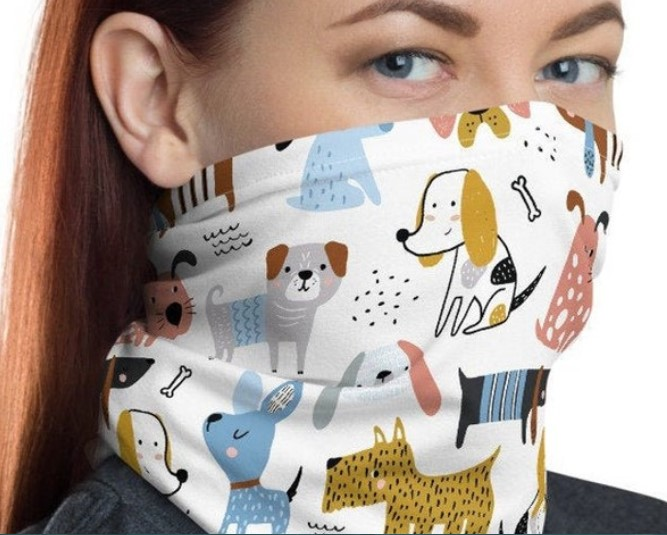face_with_mask: (92, 1, 627, 441)
